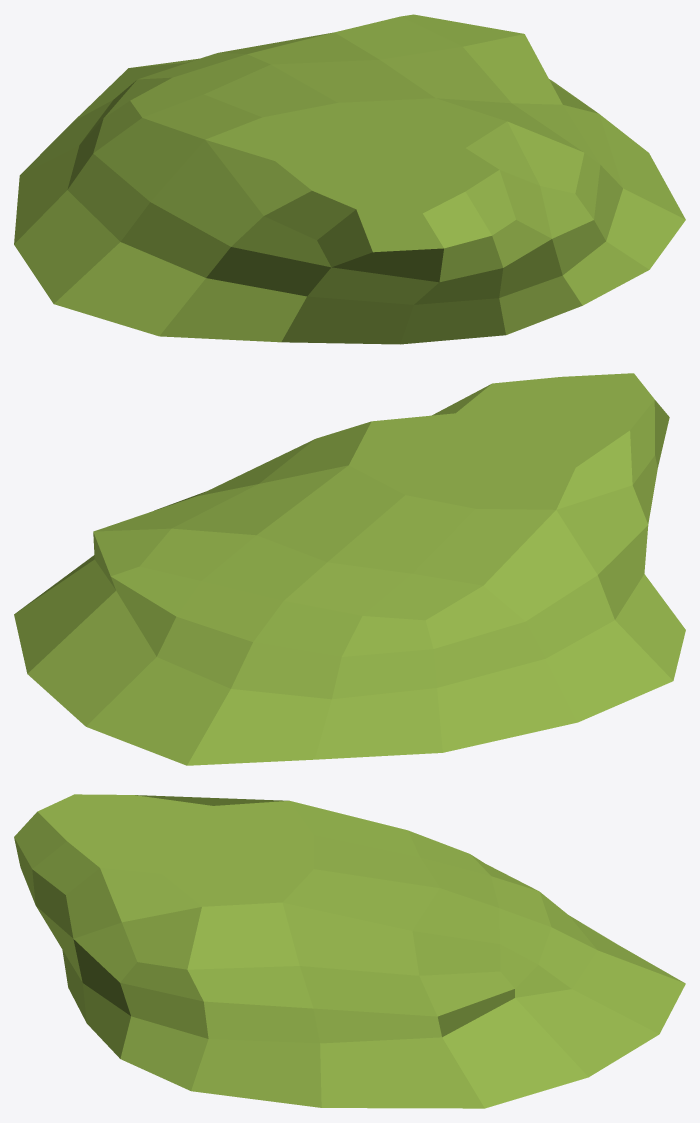
File: hill2.fbx
3 renders of one model, top to bottom at view 1: azimuth 30°, elevation 25°; view 2: azimuth 150°, elevation 25°; view 3: azimuth 270°, elevation 25°, orthographic. The views are drawn at different scales.
Parts seen in each view (by area): view 1: hill2_LOD0; view 2: hill2_LOD0; view 3: hill2_LOD0.
Part boxes in pixels (<box>): hill2_LOD0: <box>14,14,685,344</box>; hill2_LOD0: <box>14,373,685,765</box>; hill2_LOD0: <box>14,794,685,1108</box>.
Size of what is drawn, in the model's own units: 23.31 by 5.91 by 26.81.
